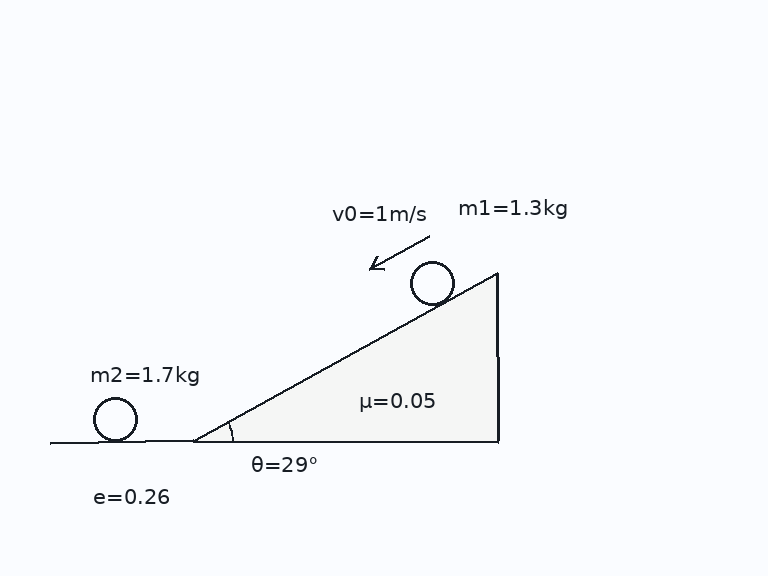ball: (408, 259, 456, 307), (91, 395, 139, 443)
ramp: (191, 270, 499, 443)
